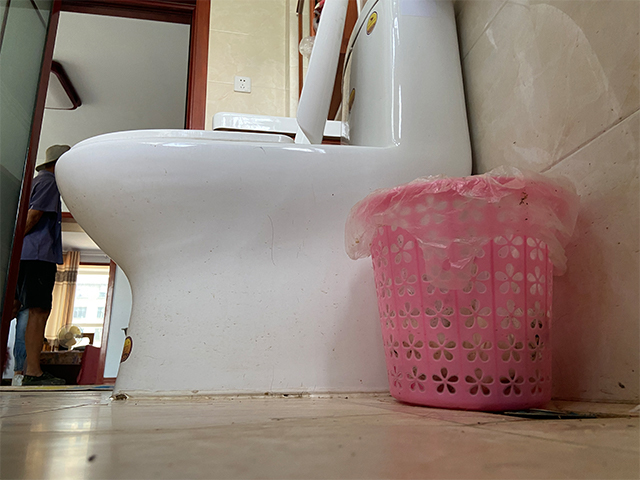carpet: (1, 384, 113, 392)
closestool: (51, 1, 473, 401)
trashcan: (344, 165, 580, 412)
